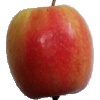apple: (5, 5, 94, 100)
